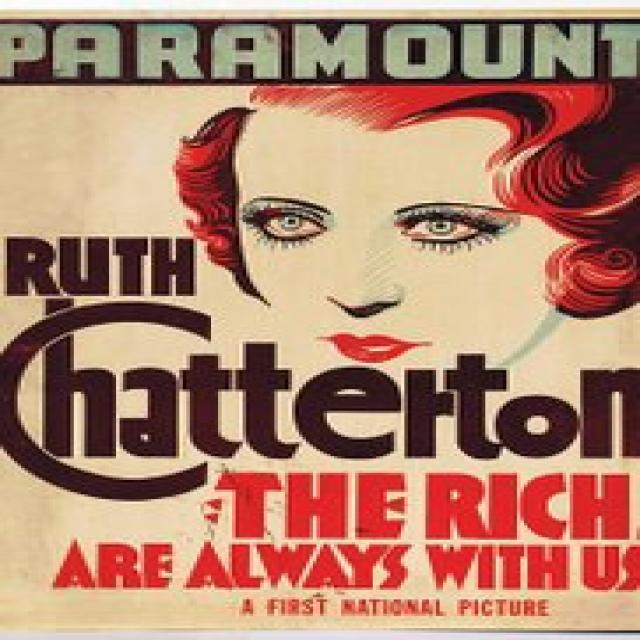movie-judul: (0, 234, 640, 599)
picture: (175, 85, 640, 364)
